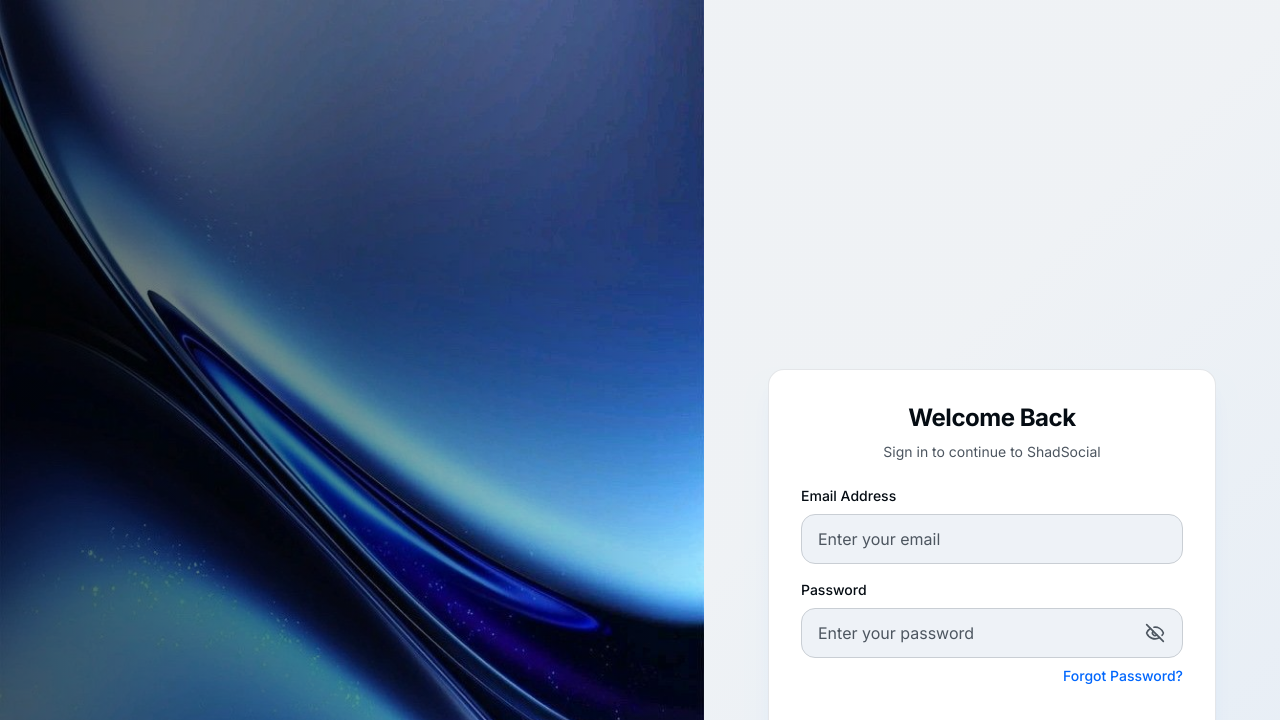
Test: Login Component › Deactivated Account Flow › should close reactivate modal when cancel is clicked
In the field labelled "Email Address": (992,539) [801, 514, 1183, 564], type "test@example.com"
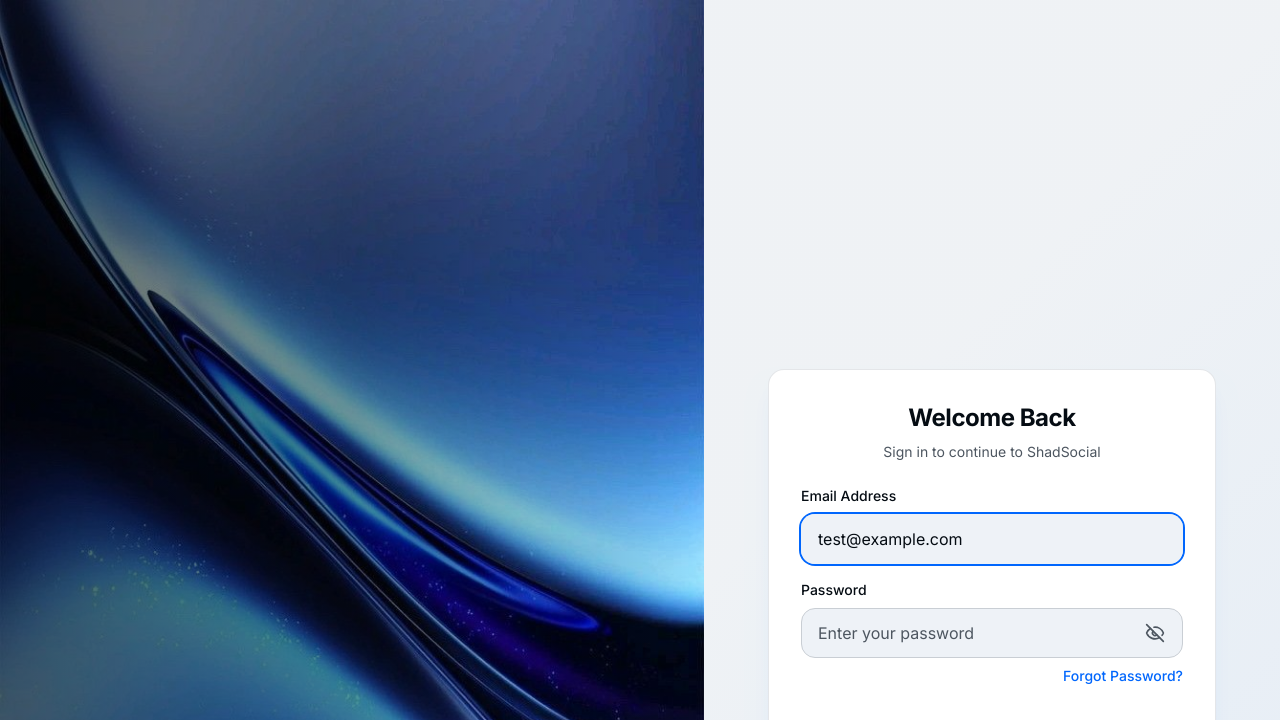
In the password field labelled "Password": (992,633) [801, 608, 1183, 658], type "password123"
(page scrolled)
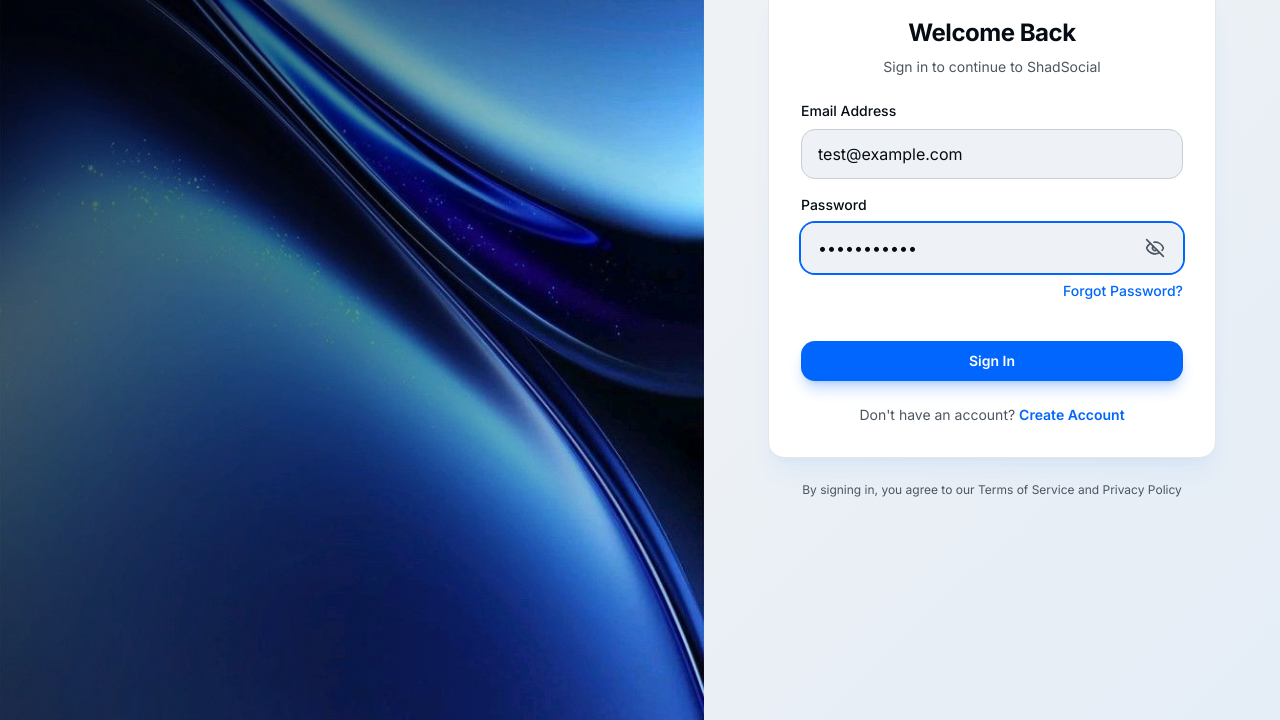
Click the button "Sign In": (992,361) [801, 341, 1183, 381]
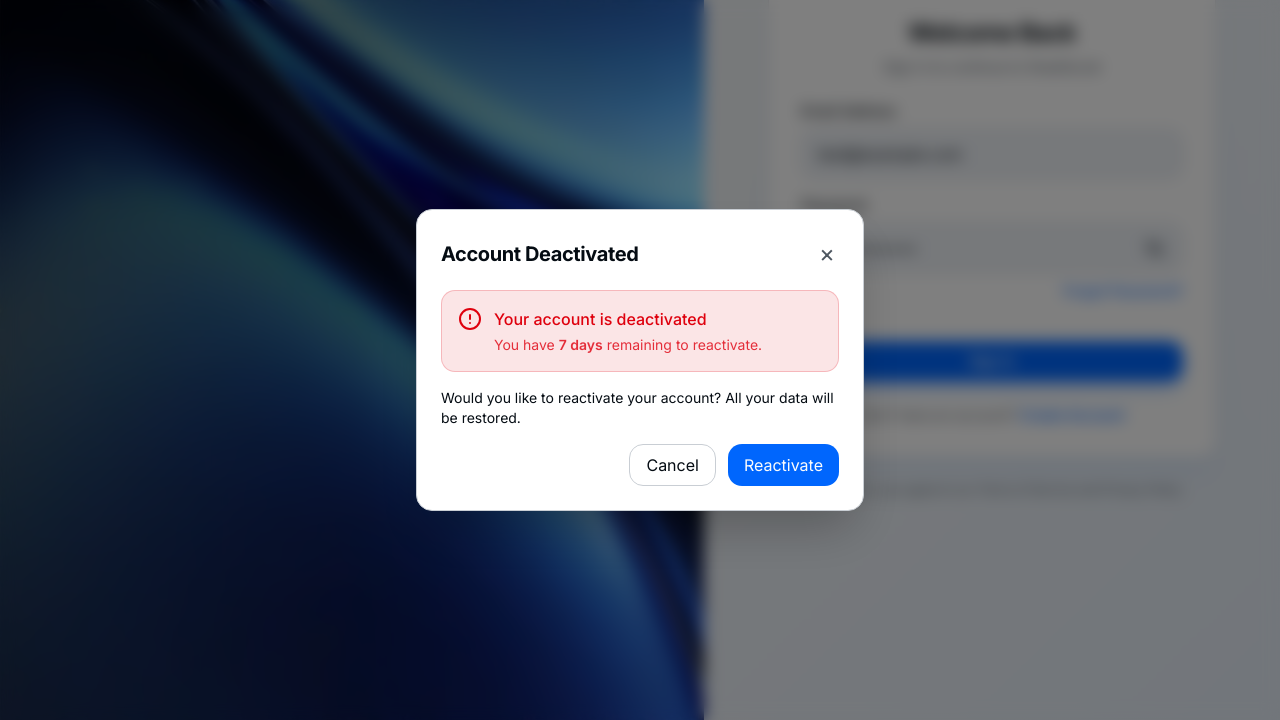
Now the heading "Account Deactivated" is shown, box [441, 240, 638, 268]
Click cancel
Click the button "Cancel": (673,465) [629, 444, 716, 486]
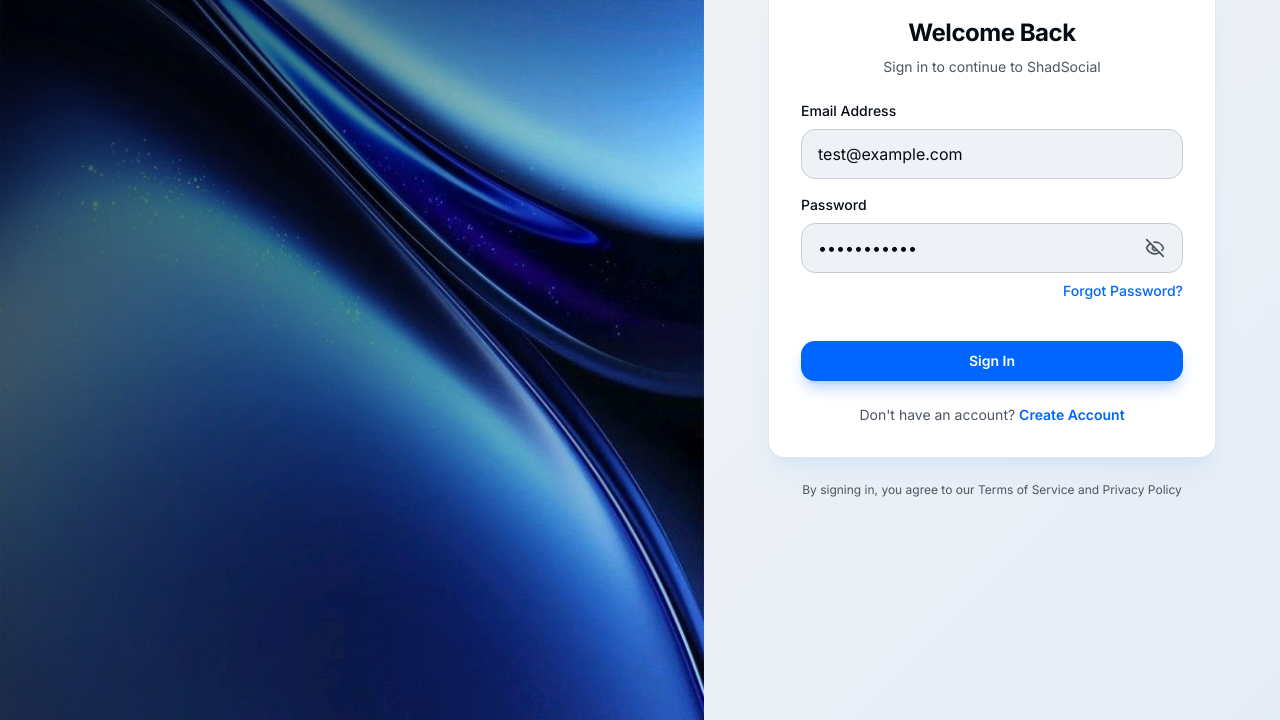
Now the heading "Account Deactivated" is gone
